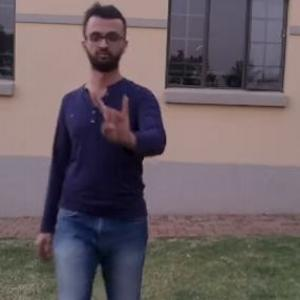takeoff-hand: (87, 85, 143, 148)
